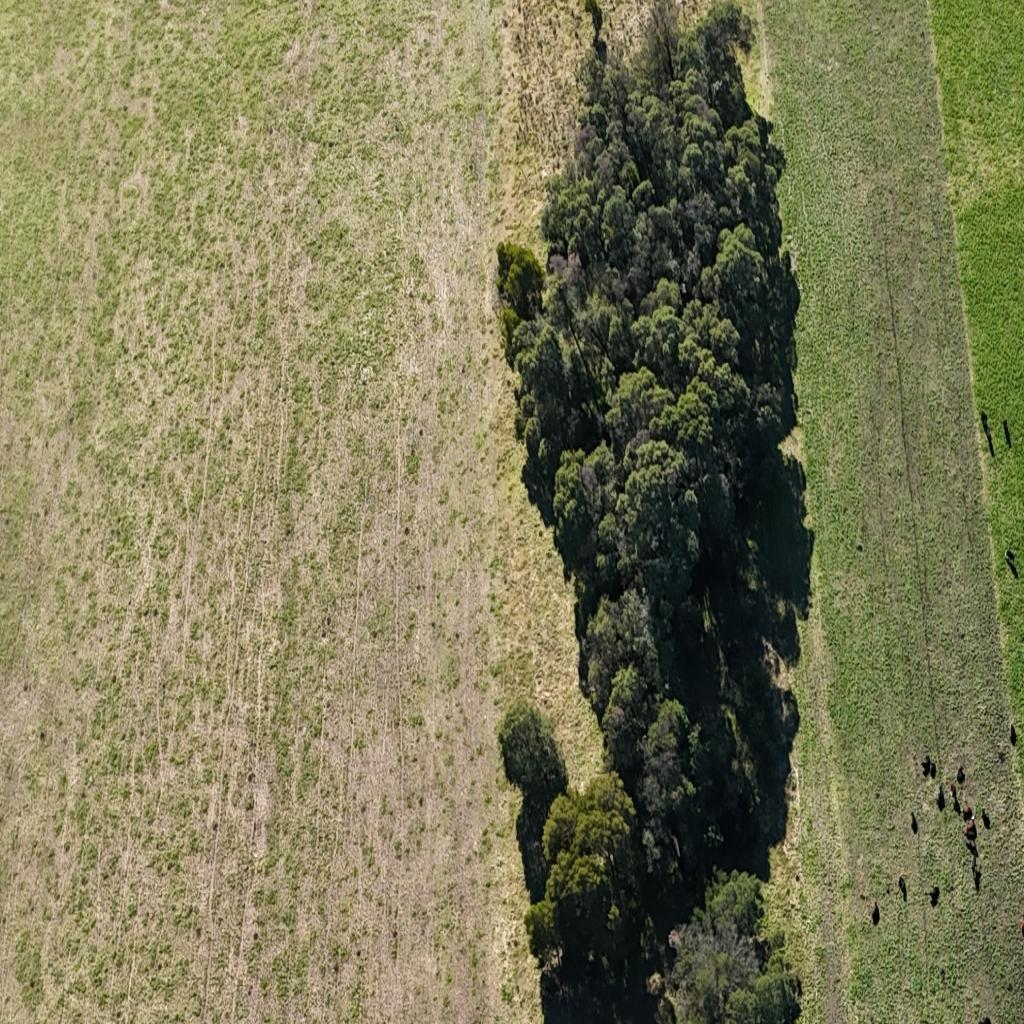cow: (1002, 416, 1013, 450), (949, 782, 960, 807), (936, 788, 946, 812), (965, 815, 976, 836), (871, 901, 880, 925), (1010, 721, 1018, 747), (956, 764, 966, 784), (970, 850, 978, 874), (930, 884, 940, 903), (1005, 547, 1015, 565), (981, 409, 990, 429), (982, 806, 990, 828), (910, 811, 917, 831), (961, 806, 973, 817), (978, 1014, 991, 1024), (923, 754, 931, 770), (930, 761, 938, 776), (899, 874, 906, 891)
